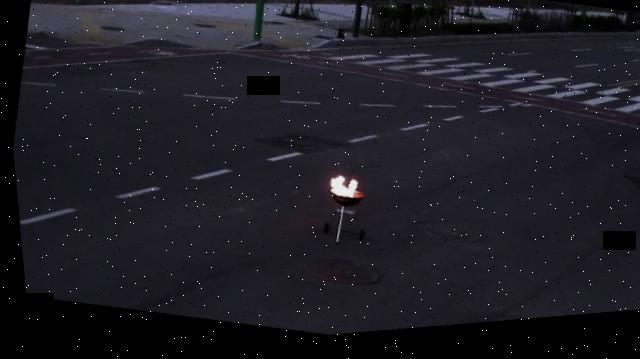fire: (322, 176, 358, 206)
